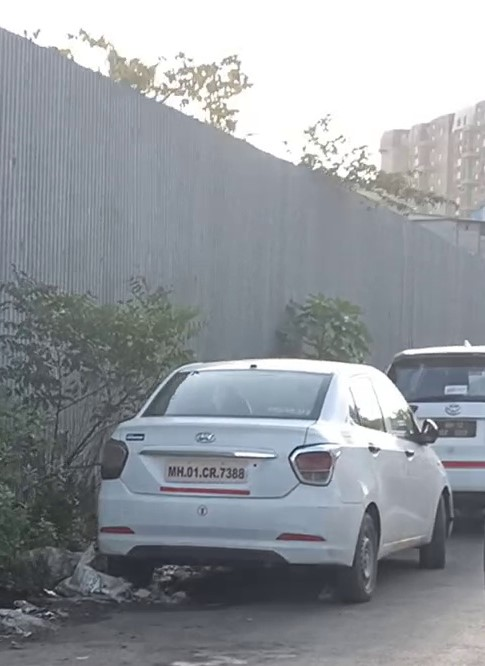MH01CR7388: (162, 458, 249, 486)
